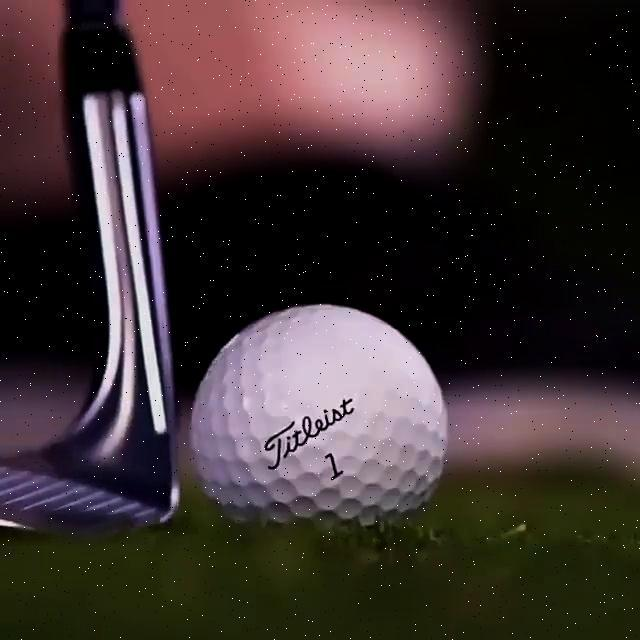ClubHead: (0, 22, 184, 536)
GolfBall: (190, 303, 448, 533)
